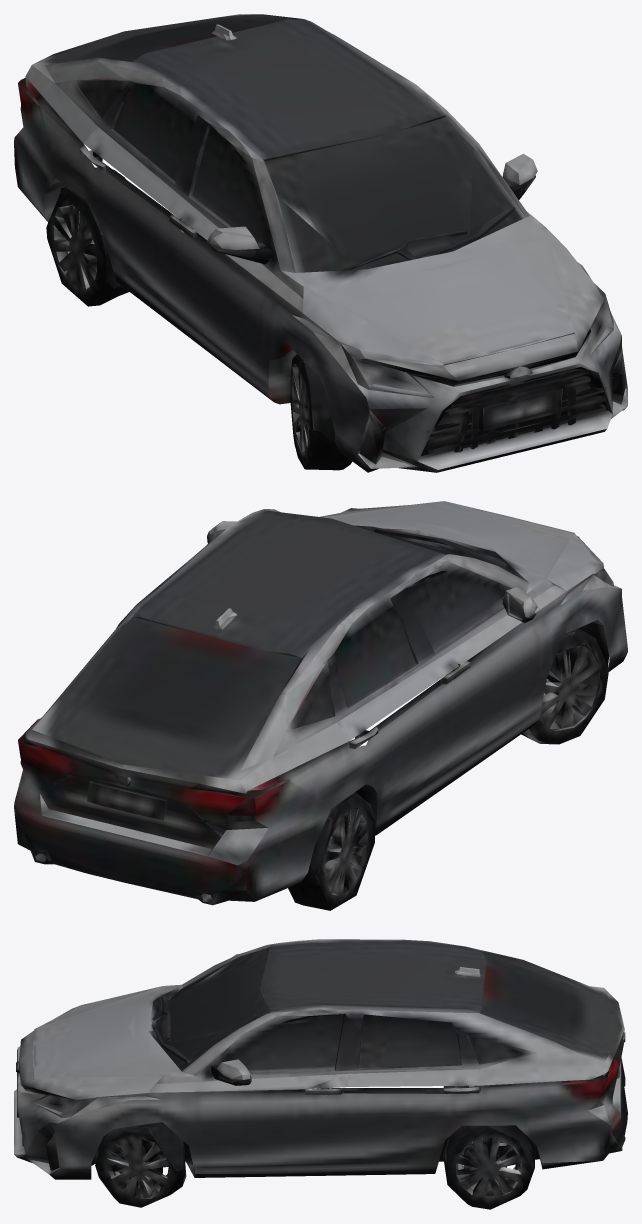
Rendered from sedan_lod2.glb.
The picture shows the model from 3 angles, top to bottom: view 1: azimuth 30°, elevation 25°; view 2: azimuth 150°, elevation 25°; view 3: azimuth 270°, elevation 25°; orthographic projection. The views are drawn at different scales.
Parts seen in each view (by area): view 1: tripo_node_edf159b9; view 2: tripo_node_edf159b9; view 3: tripo_node_edf159b9.
Part boxes in pixels (x1,y1,x2,y2): tripo_node_edf159b9: [14, 14, 627, 472]; tripo_node_edf159b9: [14, 501, 627, 910]; tripo_node_edf159b9: [14, 939, 627, 1209].
Bounding box in the file's own units: 46.35 × 34.43 × 99.59.
1 material, 1 textured.
